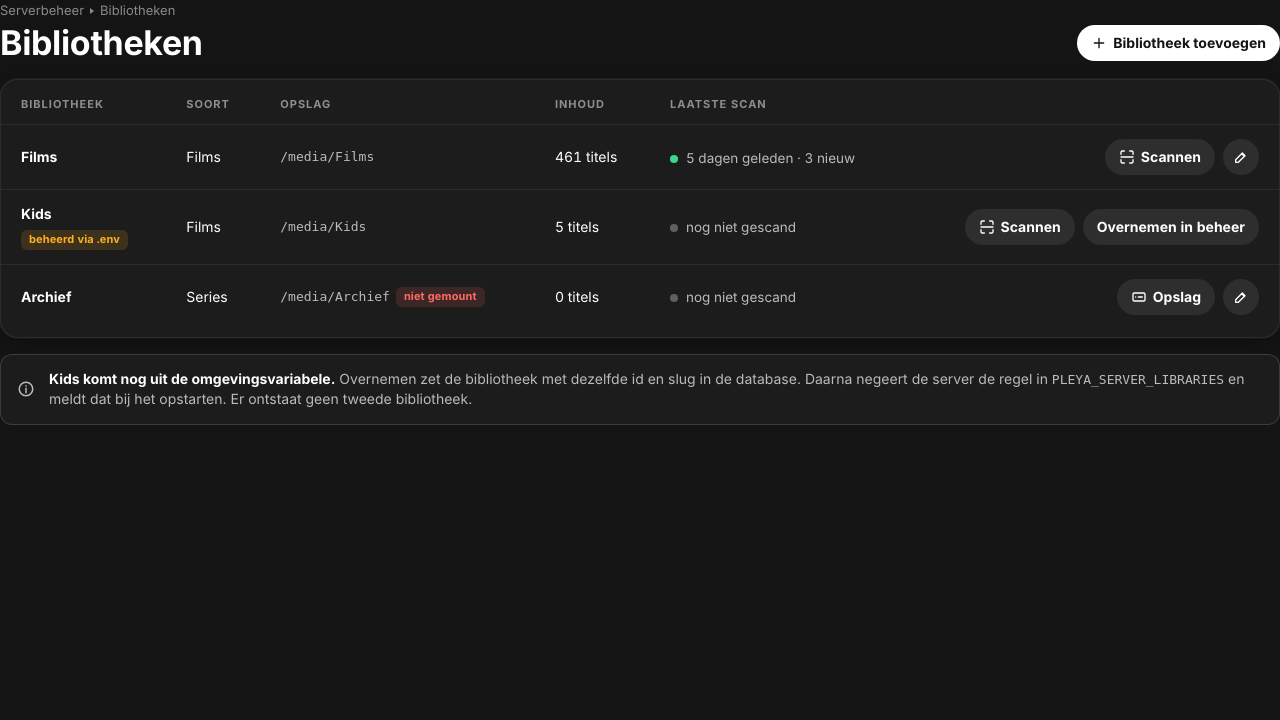
it: scherm 21, bibliotheken › zegt bij library.not_config_managed dat er niets over te nemen is, met opnieuw laden
The image size is (1280, 720).
Click the button "Overnemen in beheer" at (1171, 227), box [1083,209,1259,245]
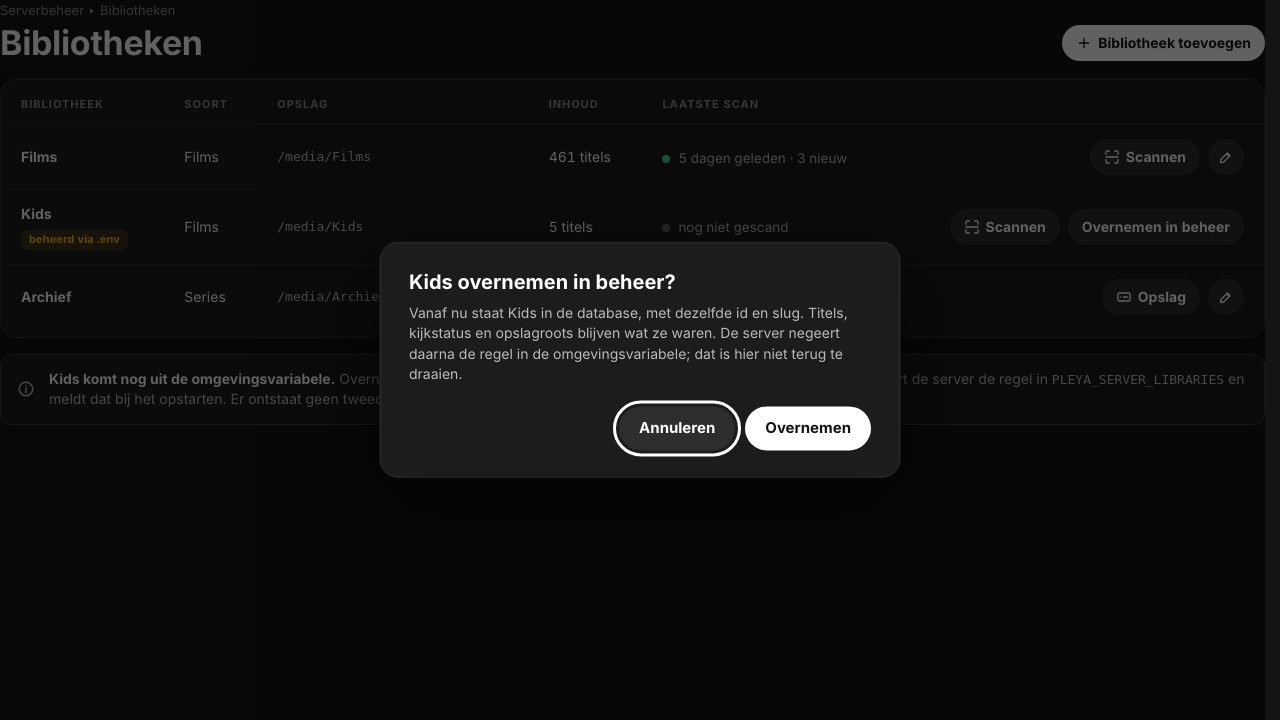
Click the button "Overnemen" at (808, 429), box [745,407,871,451]
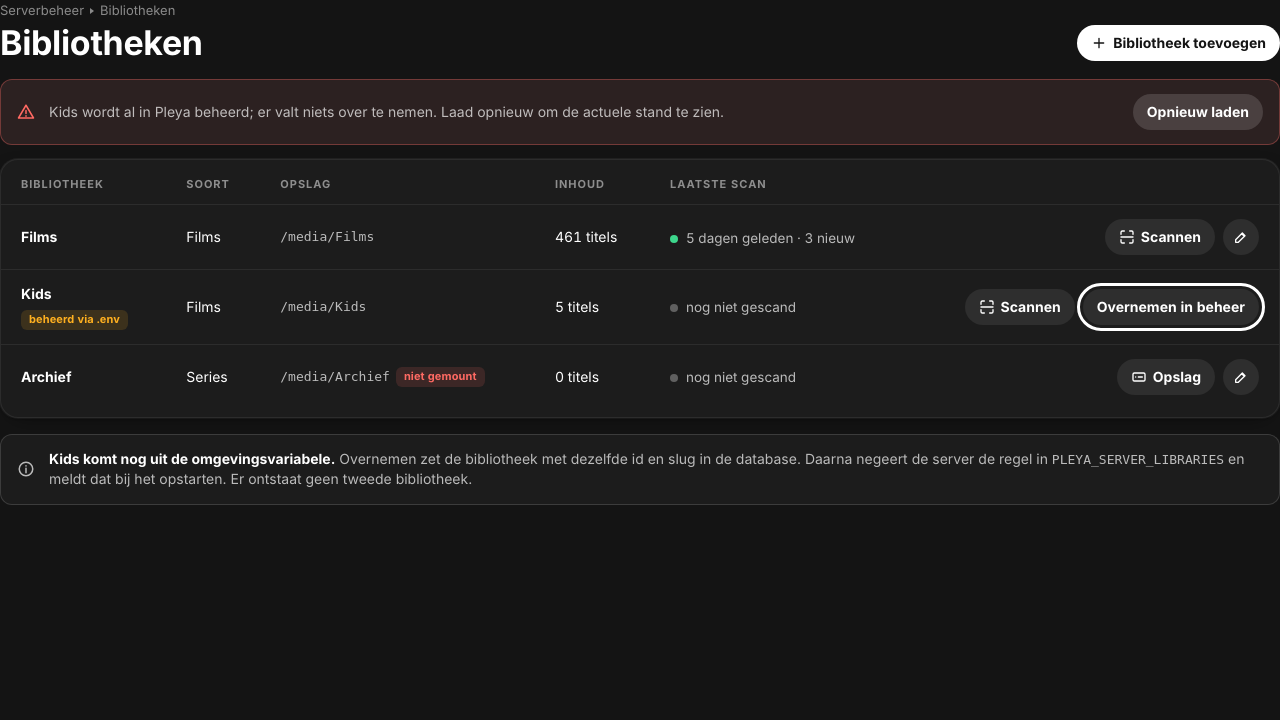
Check: the message shows "Kids wordt al in Pleya beheerd", box [49,103,724,120]
Check: the button "Opnieuw laden" is shown, box [1133,94,1263,130]
